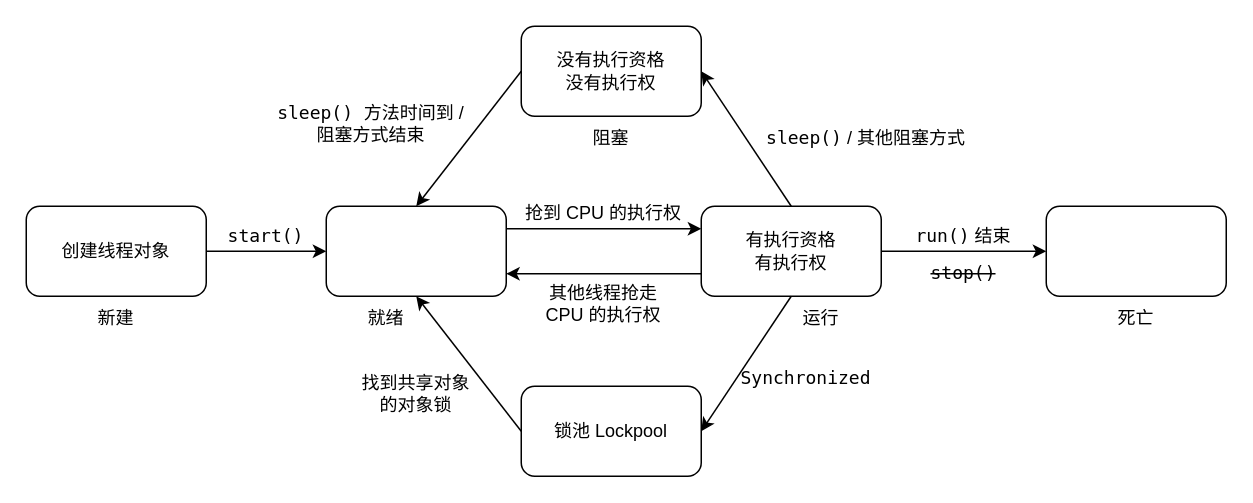
The diagram is 1253 pixels wide and 503 high, and some of its shapes have lost their labels. Here are the shapes that lost their labels. From the top down, the centre of each, then its label:
the point at 415,250: 有执行资格 没有执行权
the point at 1135,250: 线程死亡 变成垃圾
